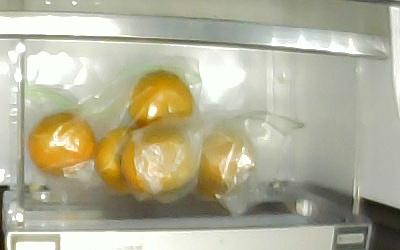persimmon_vinyl: (122, 126, 194, 195), (29, 112, 96, 177), (199, 128, 254, 199), (128, 71, 194, 128), (95, 125, 132, 195)
